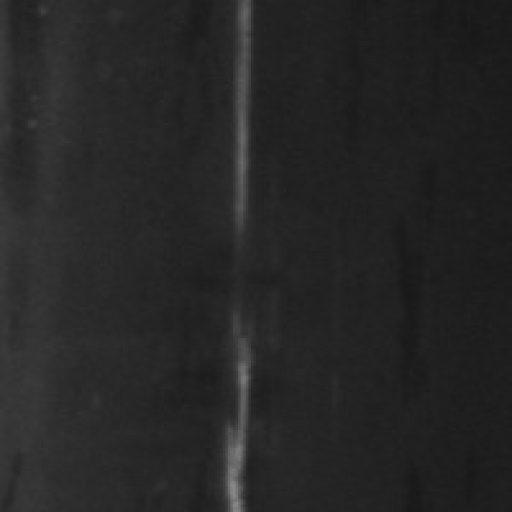scratches: (207, 292, 267, 512), (223, 1, 265, 271)
